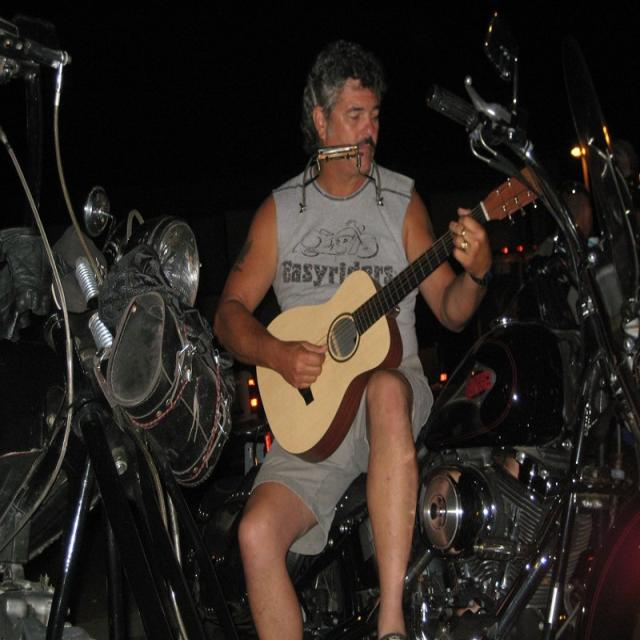guitar: (256, 162, 544, 466)
